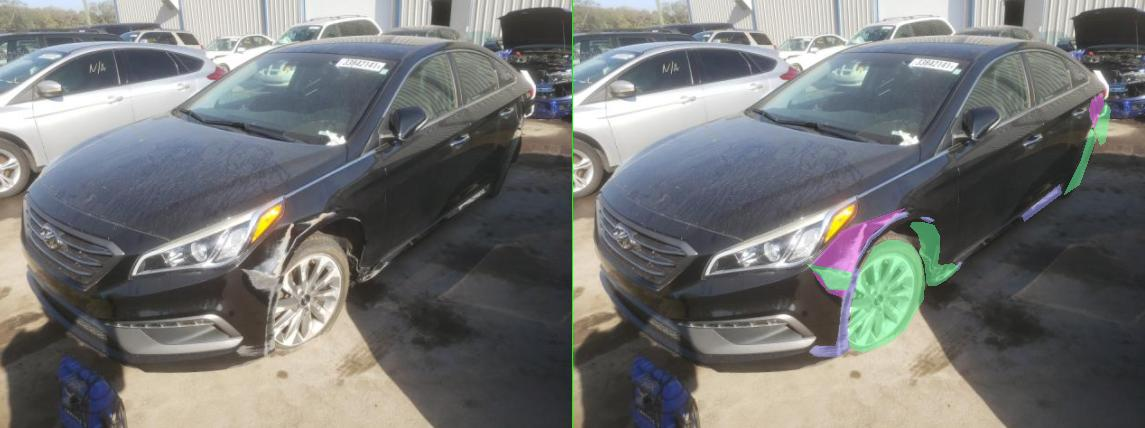Broken part: (548, 240, 703, 352), (675, 222, 771, 285), (983, 127, 1047, 194), (468, 264, 566, 289), (1043, 102, 1075, 145)
Dent: (474, 208, 663, 297), (1033, 93, 1063, 127)
Scratch: (472, 212, 669, 356), (536, 267, 575, 353), (899, 184, 977, 221), (719, 262, 777, 282), (697, 217, 723, 222)
